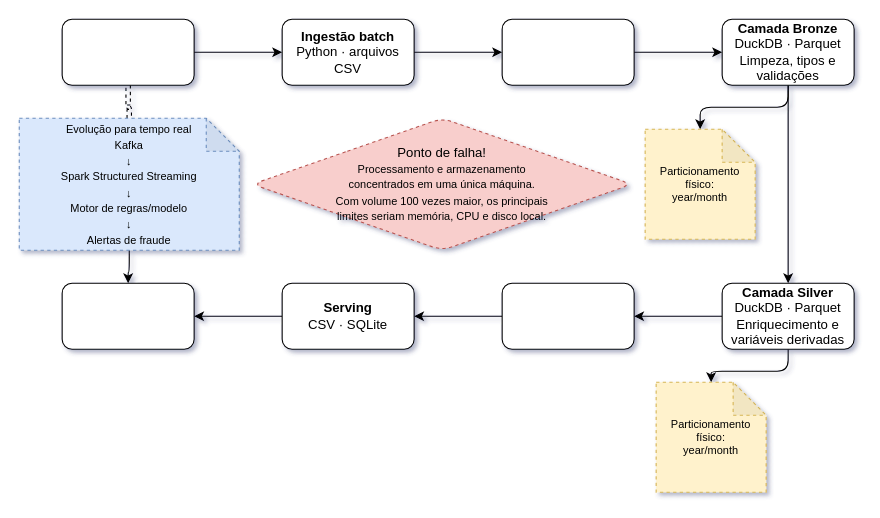
Image size: 880x518. Some labels were removed from this diagram. Here are the shapes that lost their labels. From the top down, the centre of each, then its label:
At (x=127, y=51): "Origens TechPay App · Web · POS · ATM".
At (x=567, y=51): "Camada Raw Dados originais · CSV".
At (x=127, y=315): "Dashboard e decisão Plotly HTML Gerência de risco".
At (x=567, y=315): "Camada Gold DuckDB · Parquet/CSV Agregações e KPIs".
